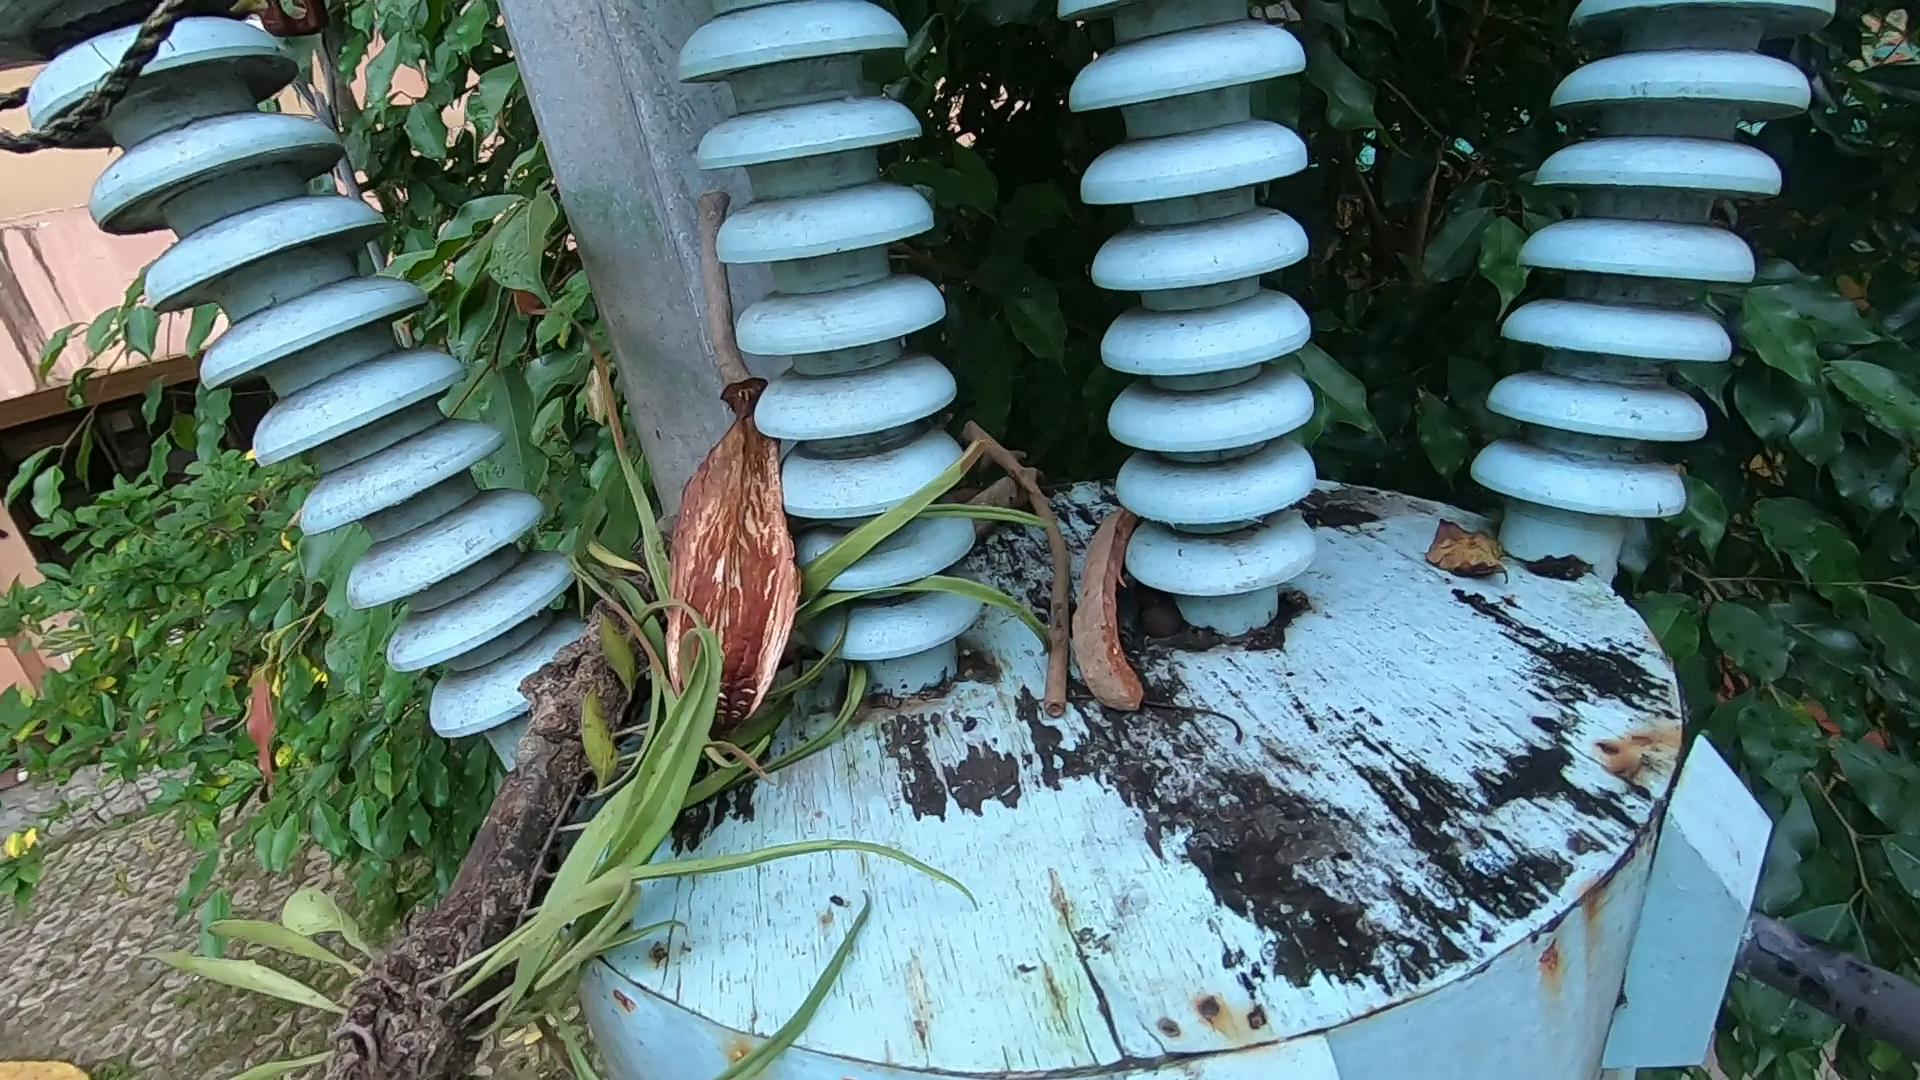branch with leaves: (156, 415, 845, 1073)
leaf: (1435, 509, 1513, 609)
mahogany fruit: (655, 384, 812, 798), (1036, 462, 1162, 744)
tree branch: (971, 415, 1076, 723), (679, 164, 787, 396)
